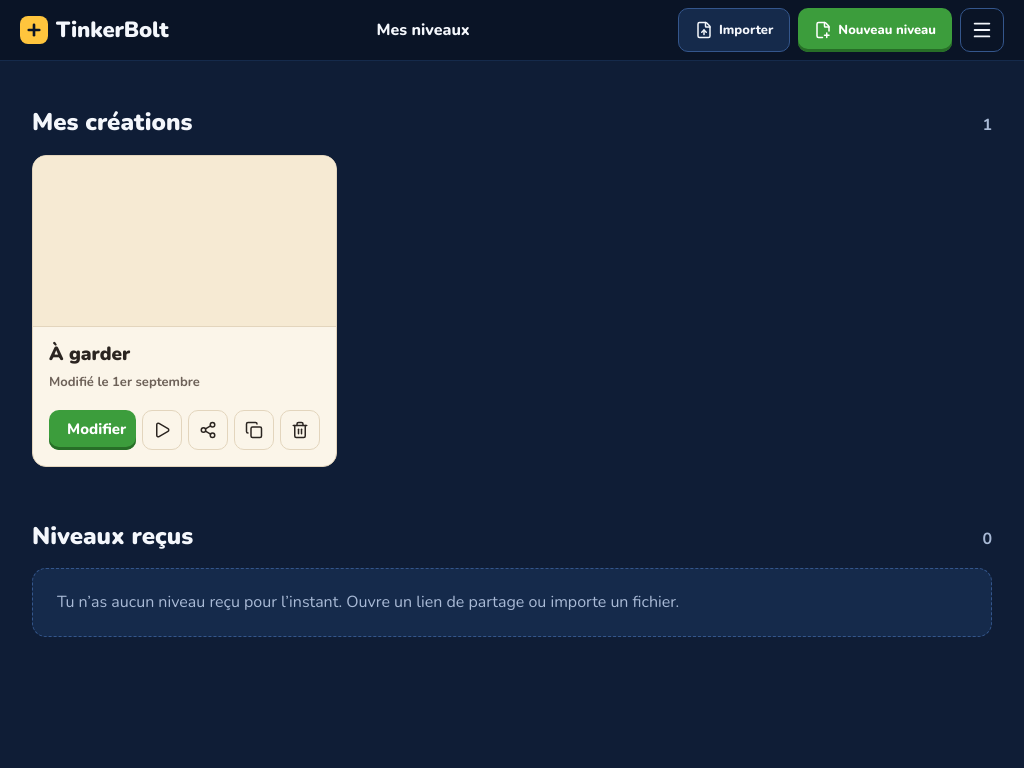
page « Mes niveaux » (M9, ADR 0015 § Page « Mes niveaux ») › supprime une création après confirmation, et l’annulation ne supprime rien
Step 1. Click the button named "Supprimer" → click(300, 430), box top-left (280, 410), bottom-right (320, 450)
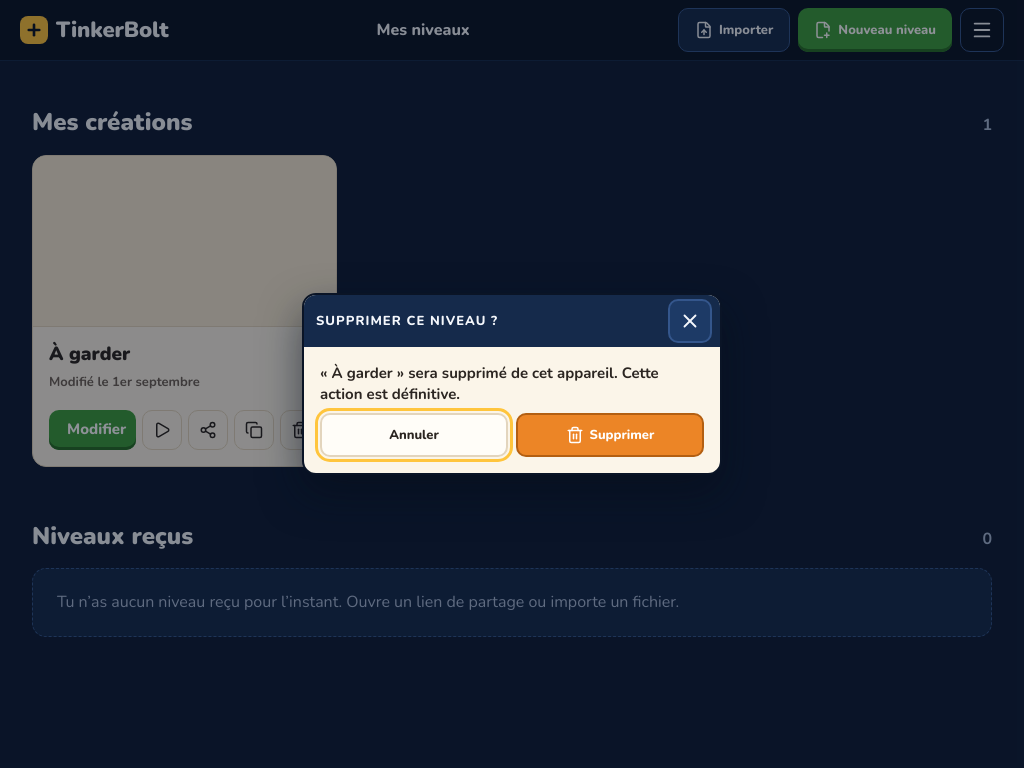
Now the text "« À garder »" is shown, box top-left (320, 363), bottom-right (704, 405)
Step 2. Click the button "Annuler" → click(414, 435), box top-left (320, 413), bottom-right (508, 457)
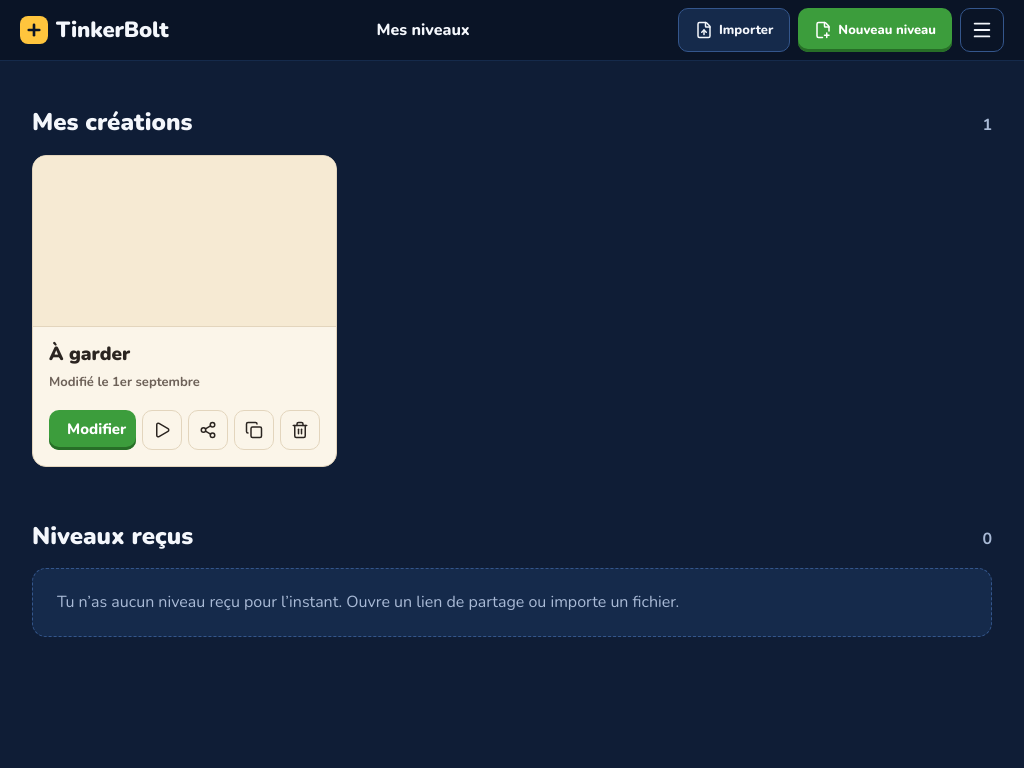
Now the dialog is gone
Step 3. Click the button named "Supprimer" → click(300, 430), box top-left (280, 410), bottom-right (320, 450)
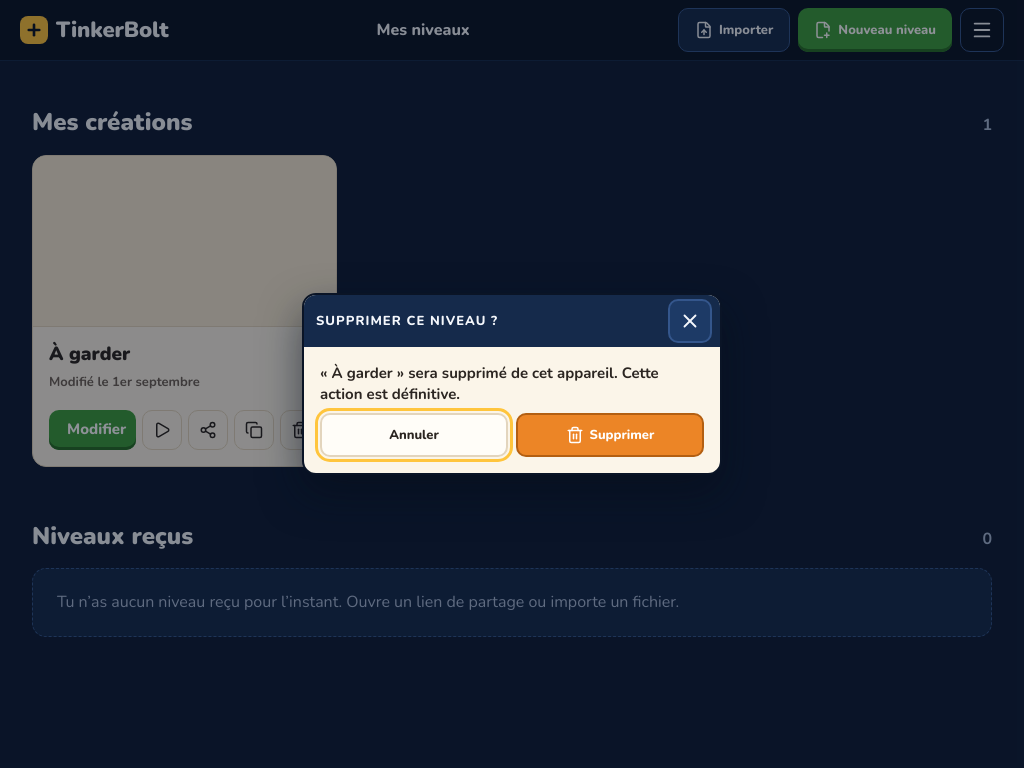
Step 4. Click the button "Supprimer" → click(610, 435), box top-left (516, 413), bottom-right (704, 457)
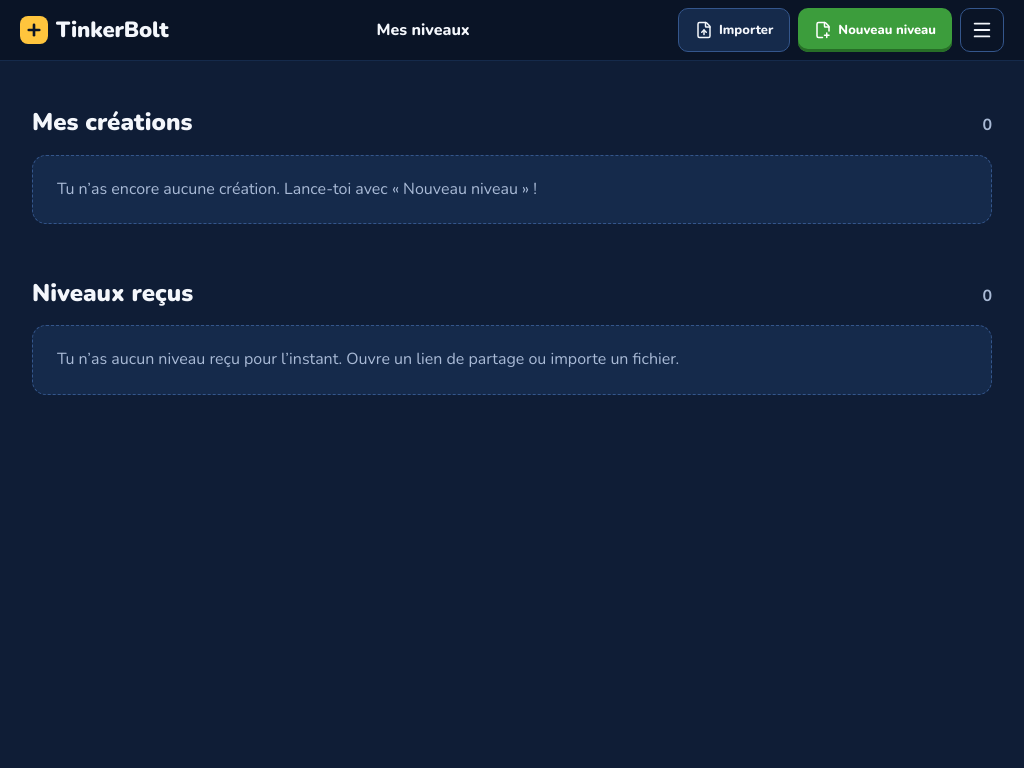
Now the dialog is gone
